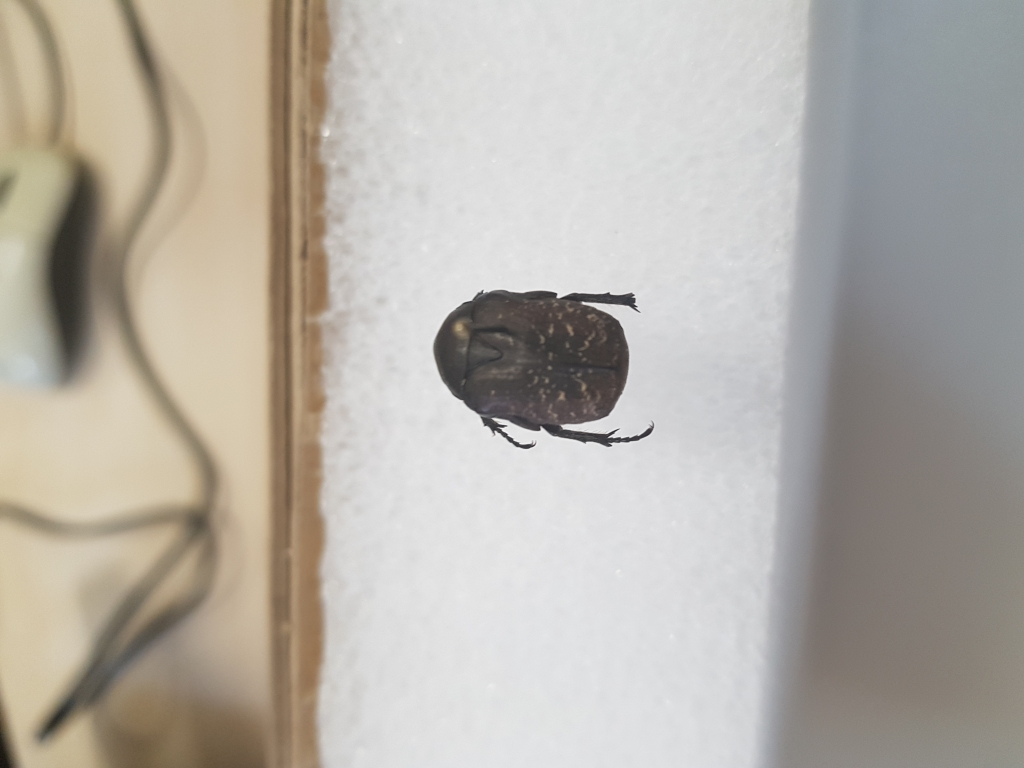Protaetia_oblonga: (433, 270, 661, 459)
